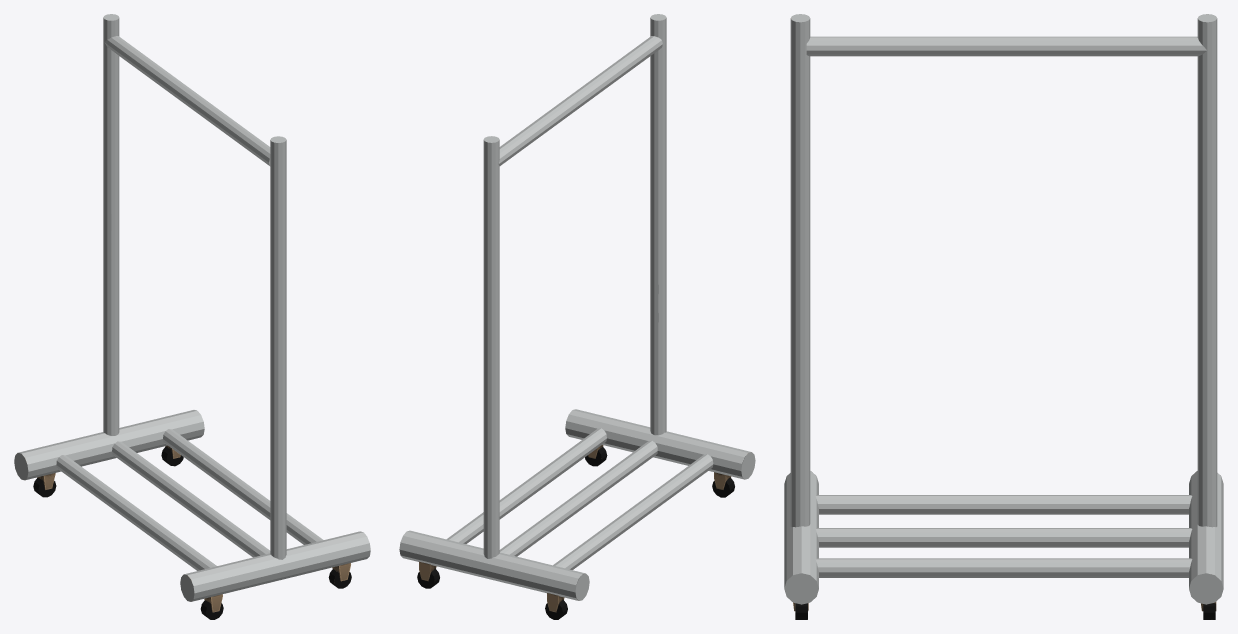
File: appendiabiti.fbx
3 views of the same model, side by side, from view 1: azimuth 30°, elevation 25°; view 2: azimuth 150°, elevation 25°; view 3: azimuth 270°, elevation 25° (orthographic). The views are drawn at different scales.
Parts seen in each view (by area): view 1: appendiabito; view 2: appendiabito; view 3: appendiabito.
Boxes of the visible parts, left/top/right/bottom form: appendiabito: left=14, top=14, right=370, bottom=619; appendiabito: left=399, top=14, right=755, bottom=619; appendiabito: left=784, top=14, right=1223, bottom=619.
Size of the model in its own units: 0.0935 by 0.2344 by 0.1656.
Materials: 1 (1 with a texture image).
